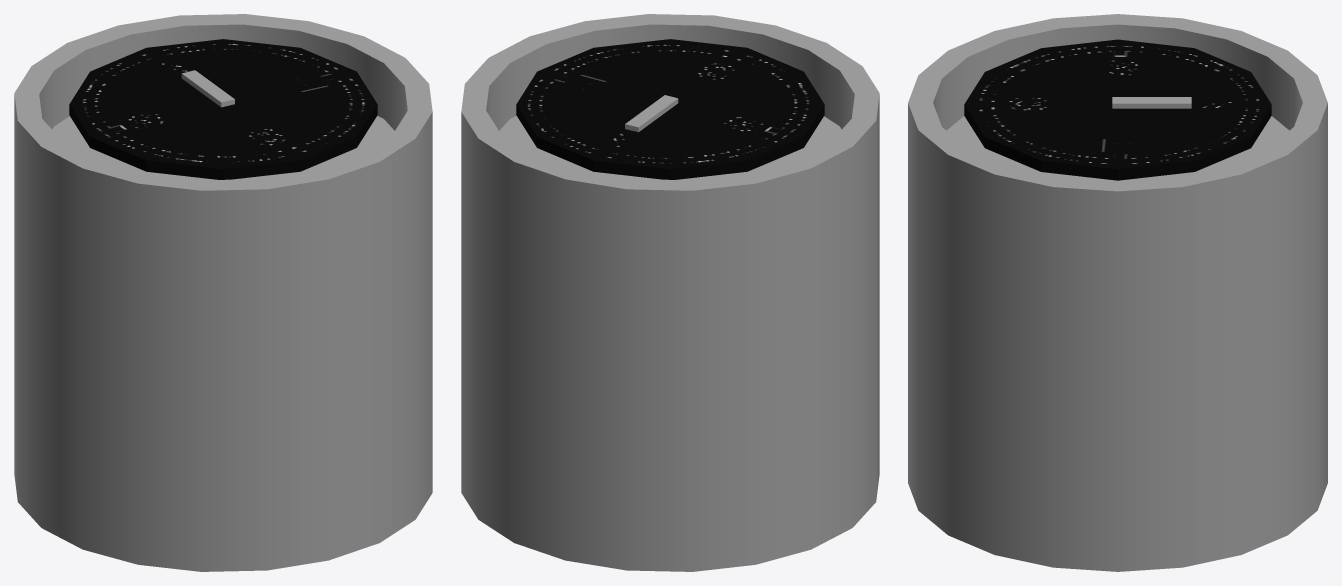
The model's file is compass2.fbx.
3 views of the same model, side by side, from view 1: azimuth 30°, elevation 25°; view 2: azimuth 150°, elevation 25°; view 3: azimuth 270°, elevation 25° (orthographic).
Visible parts, largest first — view 1: pCylinder3, pCylinder2, pCube1; view 2: pCylinder3, pCylinder2, pCube1; view 3: pCylinder3, pCylinder2, pCube1.
Boxes of the visible parts, x1,y1,x2,y2 form: pCylinder3: (14, 14, 432, 571); pCylinder2: (69, 39, 377, 179); pCube1: (181, 70, 234, 107); pCylinder3: (461, 14, 879, 571); pCylinder2: (516, 39, 824, 179); pCube1: (625, 95, 678, 132); pCylinder3: (908, 14, 1327, 571); pCylinder2: (964, 39, 1271, 180); pCube1: (1112, 97, 1191, 108).
Bounding box in the file's own units: 0.8 × 0.8067 × 0.8.
